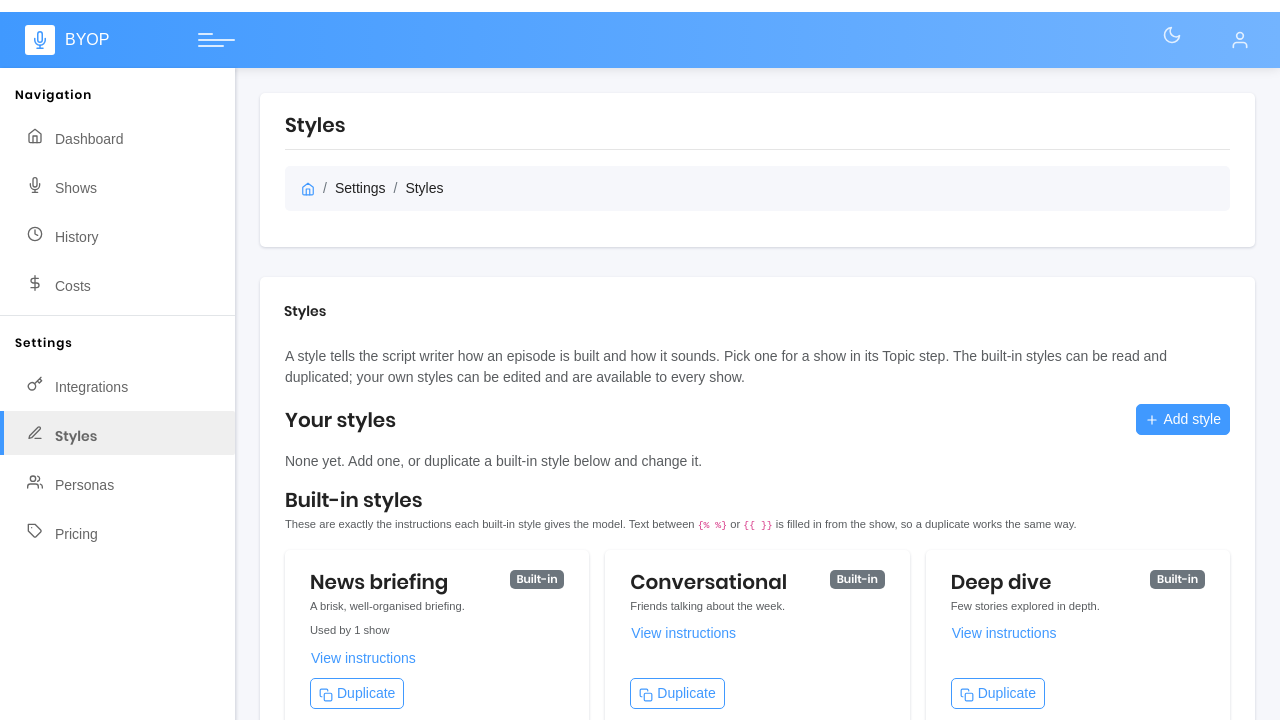
Test: Styles page › lists the built-in styles and shows exactly what they tell the model
Expected: the heading "Built-in styles" is shown, [285,486,422,514]
Expected: the text "Built-in" next to "Conversational" is shown, [837,571,878,587]
Click the button "View instructions" below "Friends talking about the week.": (757, 634) [630,622,885,646]
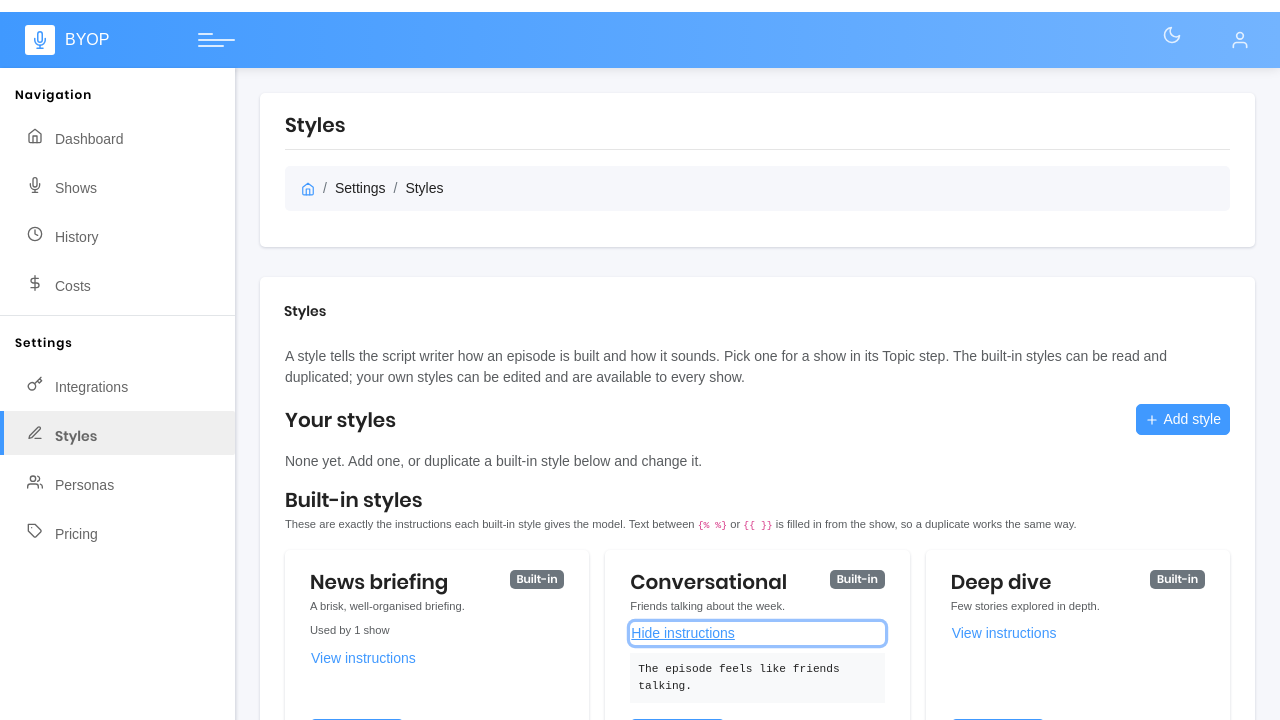
Expected: the text "None yet. Add one, or duplicate a built-in style below and change it." is shown, [285,453,702,469]
Expected: the text with test id "instructions" reads "The episode feels like friends talking.", [638,664,840,692]
